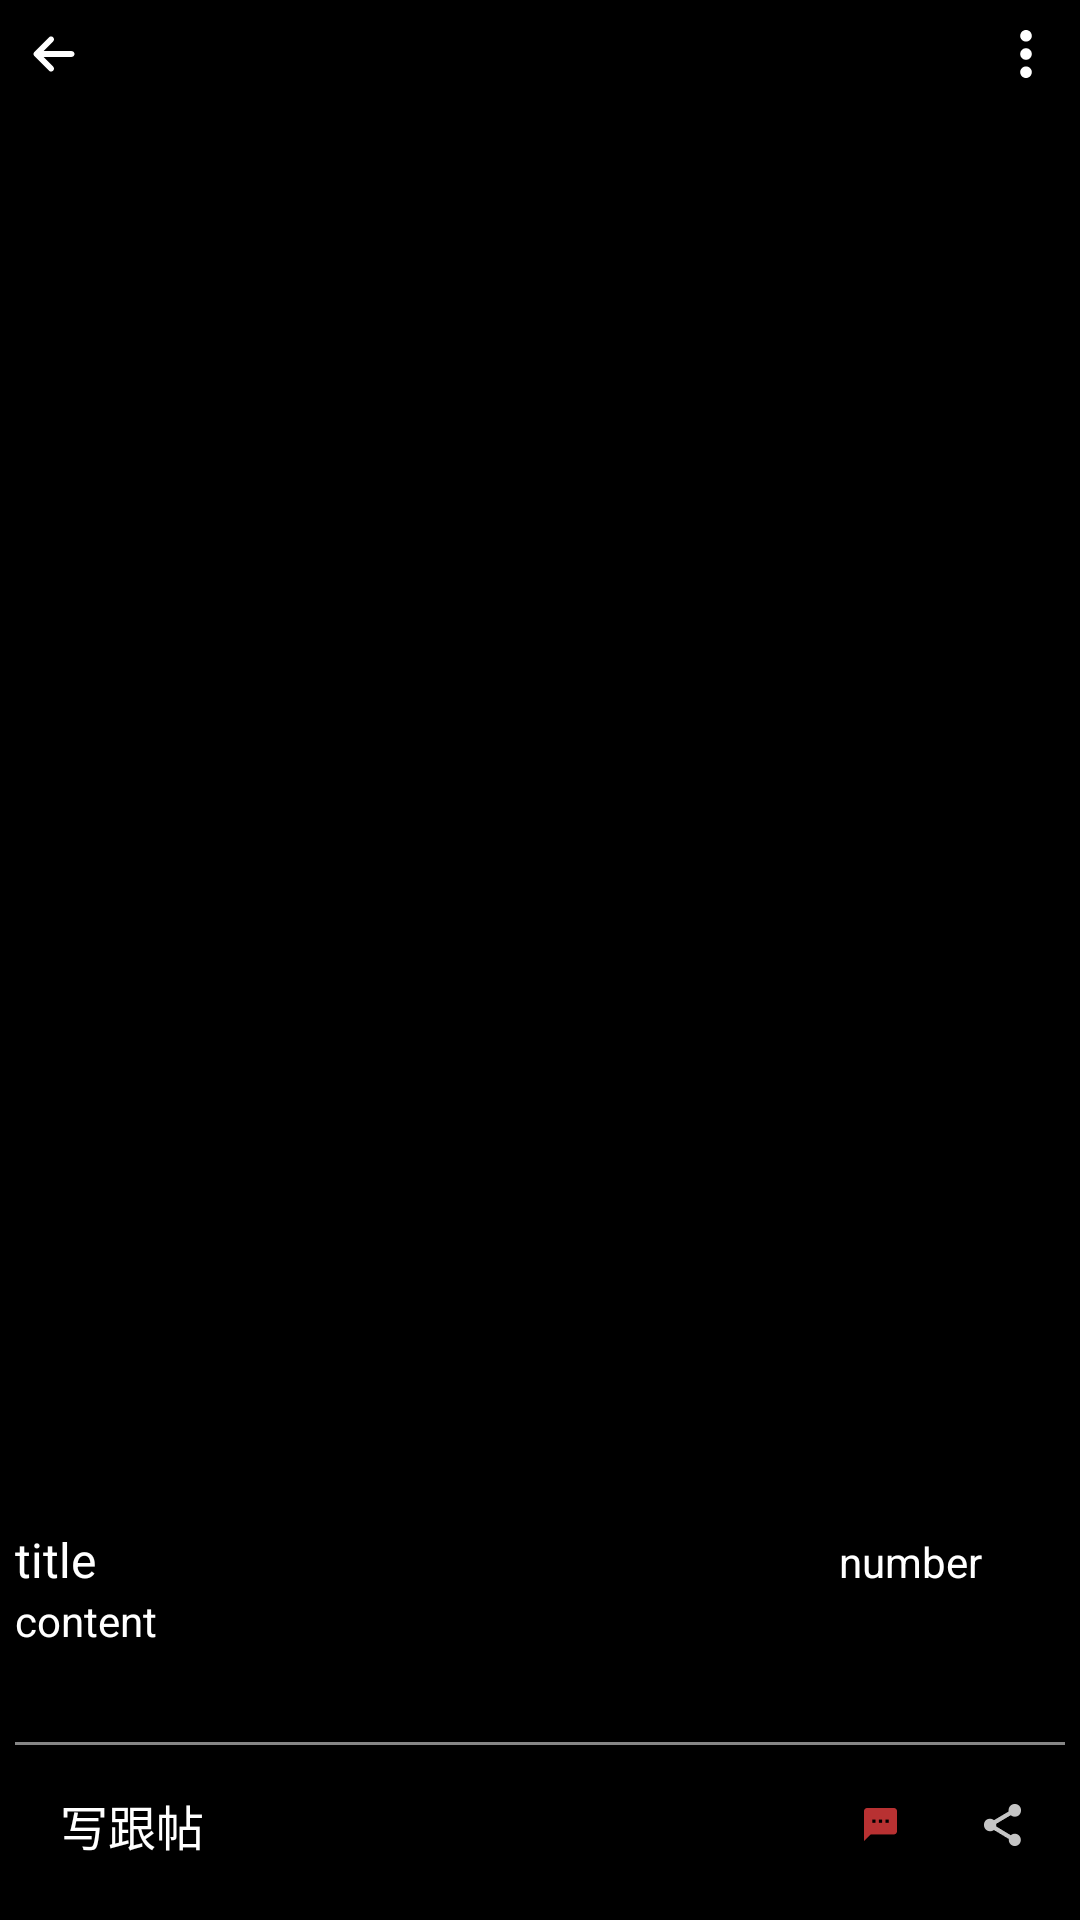

Where to tap for icons on this 1080 x 1920 app screen, as point (x, y):
arrow: point (54, 54)
